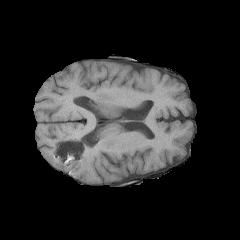glioma: (56, 137, 96, 178)
